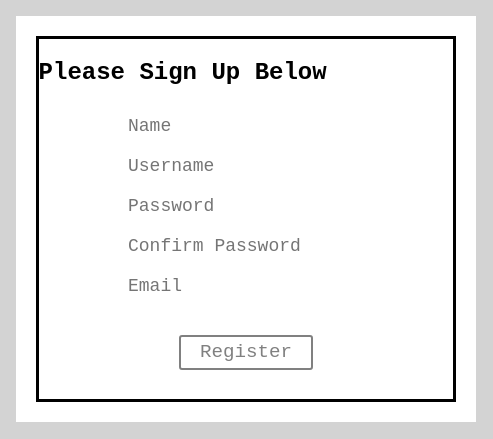
Test: register a new user
# Simulate user events
In the field with placeholder "Username": (246, 166) [123, 146, 369, 186], type "testuser"
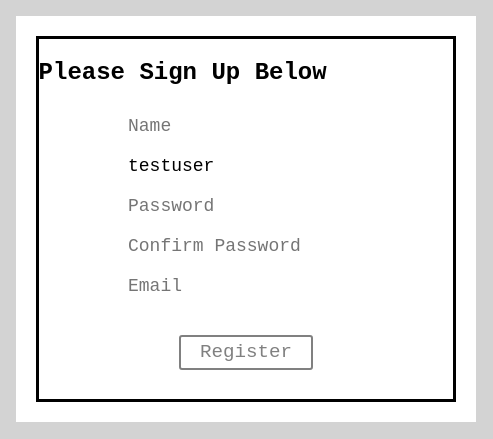
In the password field with placeholder "Password": (246, 206) [123, 186, 369, 226], type "password"
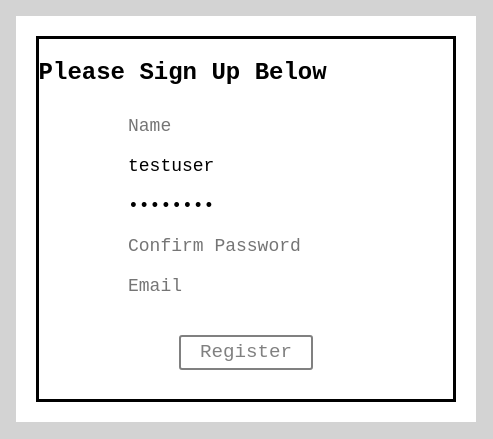
In the password field with placeholder "Confirm Password": (246, 246) [123, 226, 369, 266], type "password"
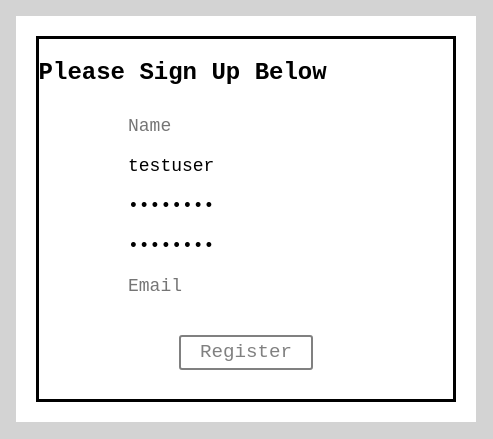
In the field with placeholder "Email": (246, 286) [123, 266, 369, 306], type "test@test.com"
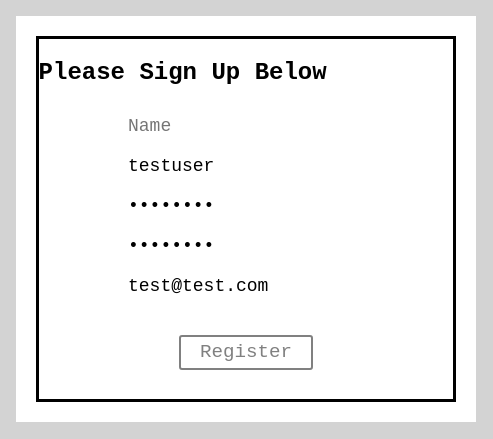
Click the button "Register": (246, 352) [179, 335, 313, 370]
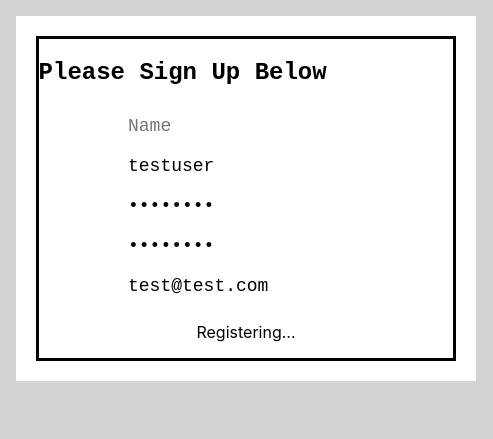
Result: the text "Registering..." is shown at [196, 322, 296, 342]
